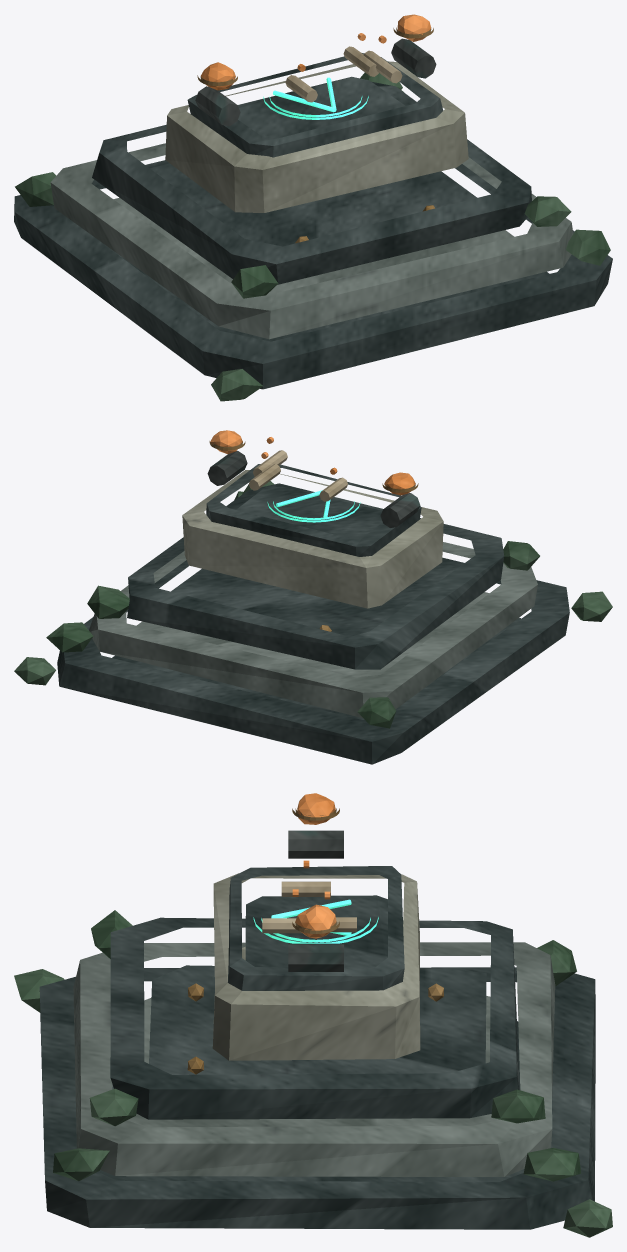
File: 0460_altar_10.glb
The picture shows the model from 3 angles, top to bottom: view 1: azimuth 30°, elevation 25°; view 2: azimuth 150°, elevation 25°; view 3: azimuth 270°, elevation 25°; orthographic projection. The views are drawn at different scales.
Visible parts, largest first — view 1: stone_dark, stone, stone_light, moss, iron, bone, amber, glow; view 2: stone_dark, stone, stone_light, moss, iron, bone, amber, glow; view 3: stone_dark, stone, stone_light, moss, iron, amber, bone, brass, glow.
Part boxes in pixels (x1,y1,x2,y2): stone_dark: (14, 53, 612, 389); stone: (50, 143, 573, 339); stone_light: (165, 61, 468, 212); moss: (15, 72, 610, 401); iron: (195, 38, 436, 126); bone: (285, 46, 402, 102); amber: (201, 14, 431, 90); glow: (263, 77, 368, 119); stone_dark: (57, 464, 569, 764); stone: (89, 542, 537, 717); stone_light: (182, 470, 443, 608); moss: (14, 481, 612, 728); iron: (207, 450, 420, 527); bone: (249, 450, 347, 501); amber: (210, 430, 415, 495); glow: (267, 490, 360, 522); stone_dark: (39, 866, 595, 1229); stone: (73, 942, 555, 1176); stone_light: (212, 873, 420, 1060); moss: (14, 910, 612, 1237); iron: (288, 830, 343, 971); amber: (292, 793, 336, 938); bone: (262, 881, 356, 933); brass: (187, 808, 443, 1074); glow: (253, 899, 378, 943).
Bounding box in the file's own units: 2.57 × 1.3 × 2.59.
Materials: 9 (9 with a texture image).
